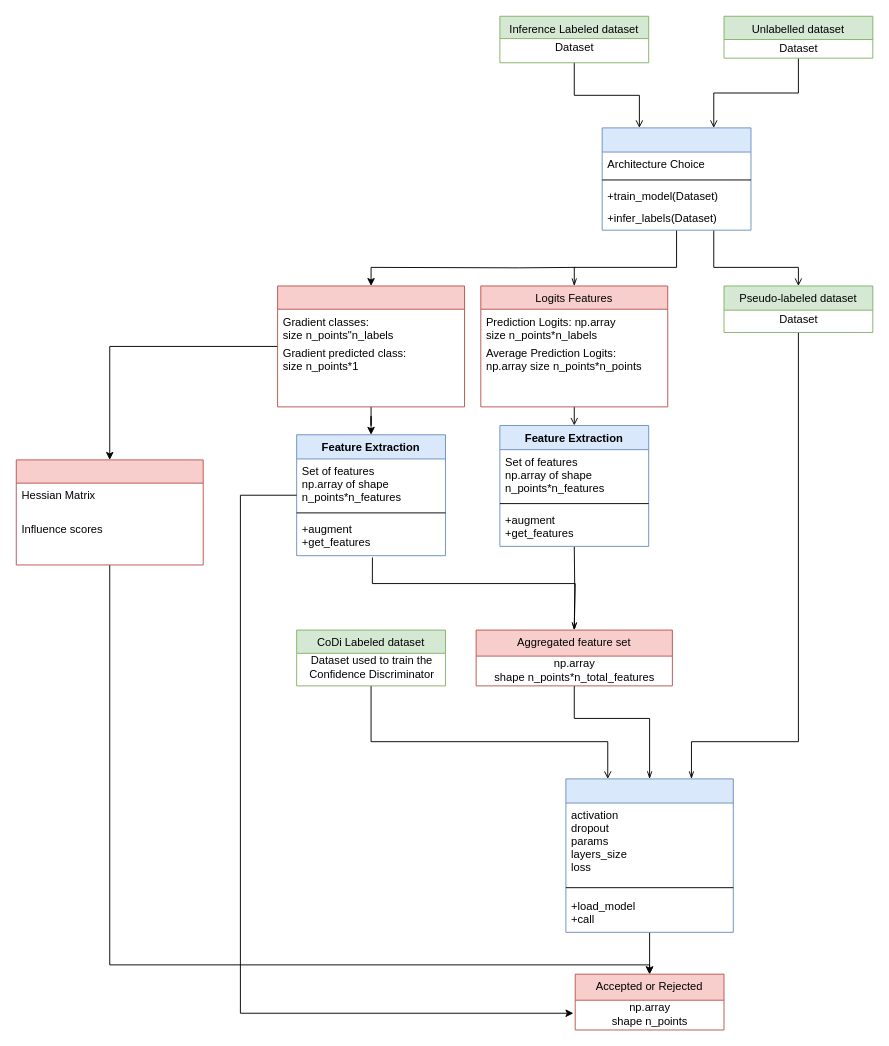
Image size: 889x1046. Some labels were removed from this diagram. Each missing label, with the box of its shape:
Confidence Discriminator: (565, 778, 733, 932)
Gradients Features: (277, 285, 465, 407)
Inference Model: (601, 127, 751, 230)
Influence Computation: (15, 459, 203, 565)
